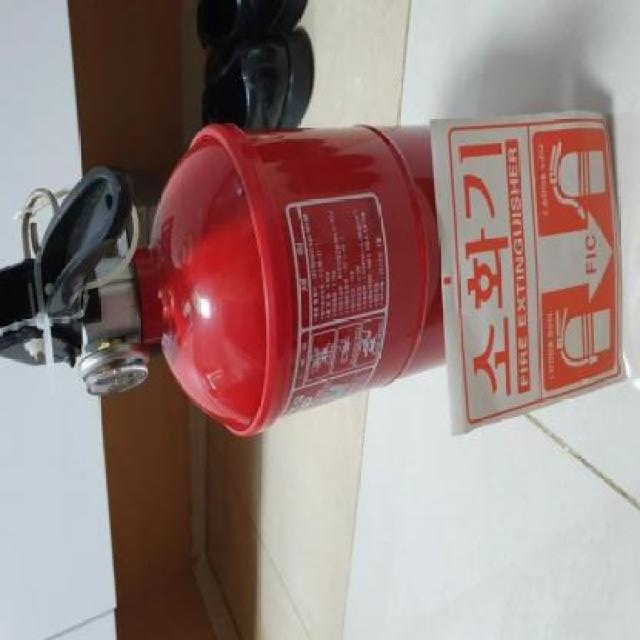fire extinguisher: (0, 124, 448, 436)
